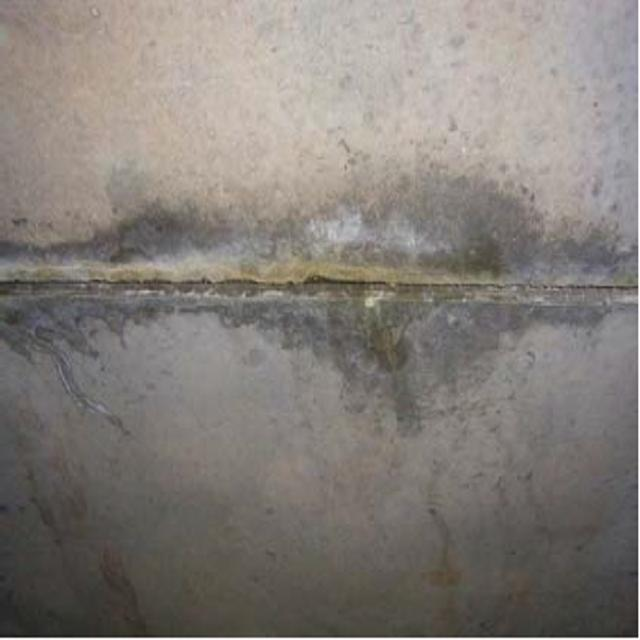leakage: (23, 187, 557, 396)
